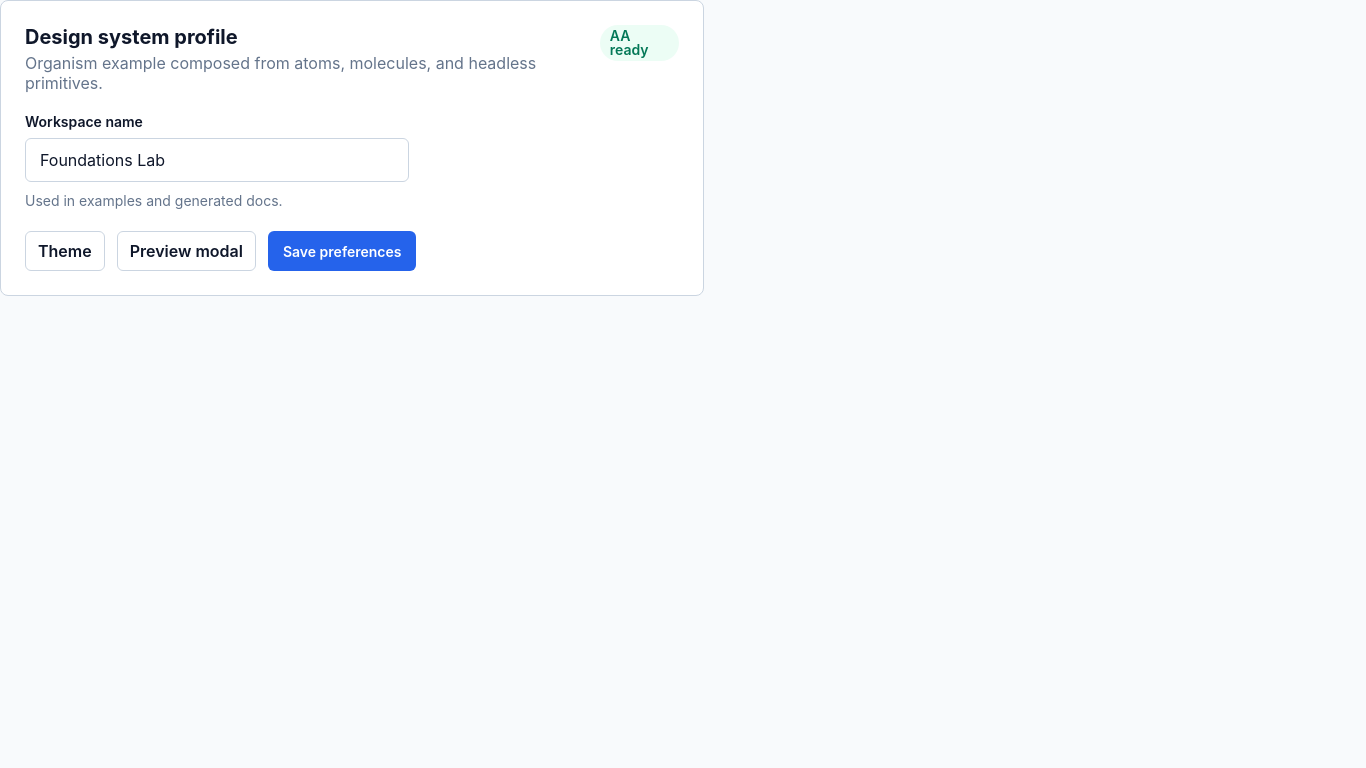
Test: PreferencesPanel › opens nested dropdown and modal controls
This screenshot has width=1366, height=768.
Click the button "Theme" at (65, 251), box [25,231,105,271]
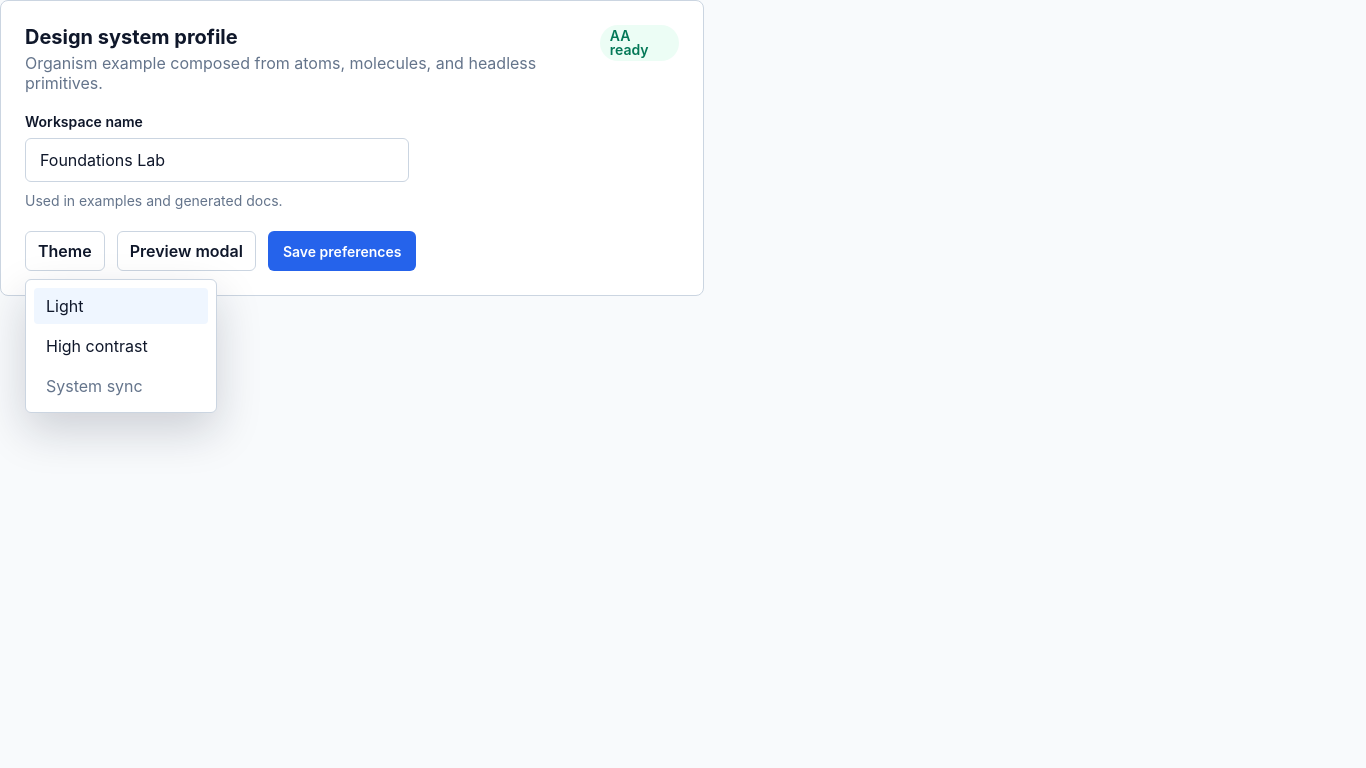
expect the menu item "High contrast" is shown: met, box [34,328,208,364]
Click the button "Preview modal" at (186, 251), box [117,231,256,271]
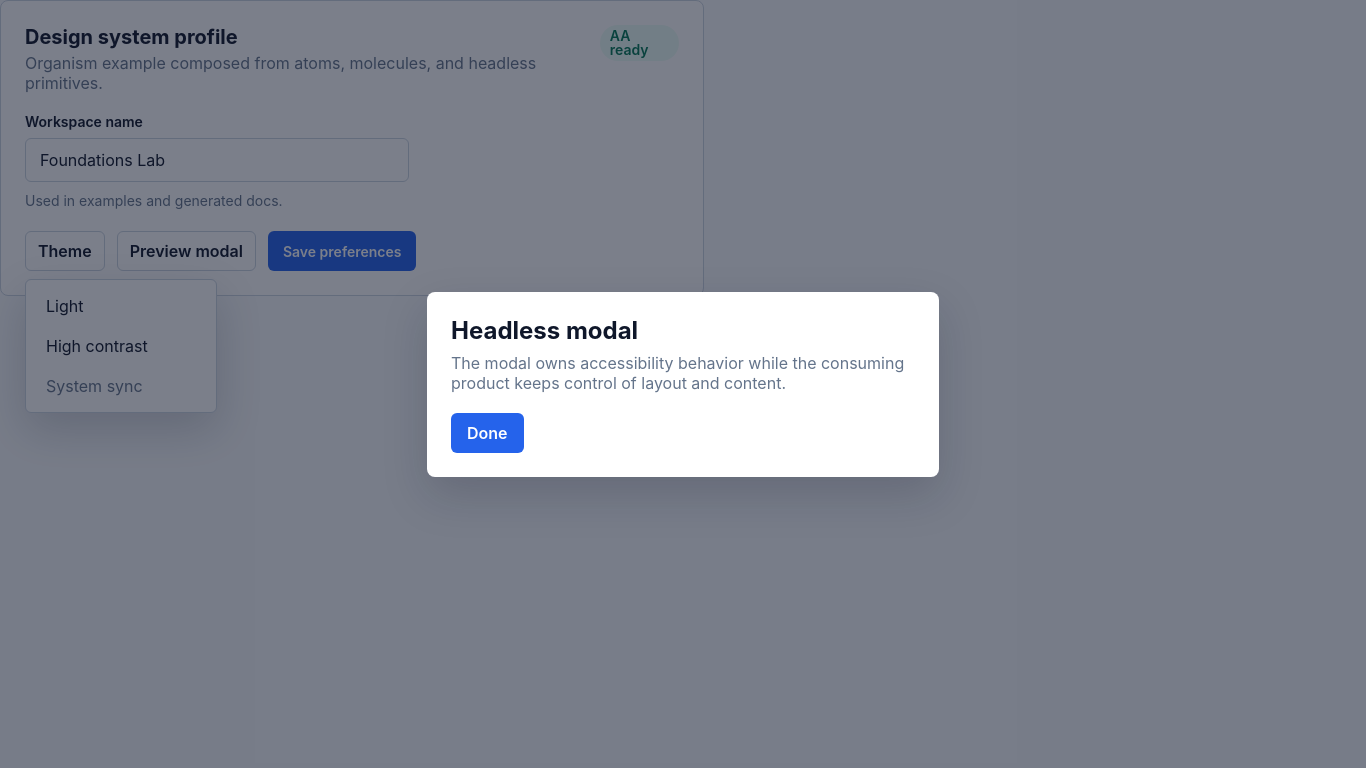
expect the dialog "Headless modal" is shown: met, box [427,292,939,476]
